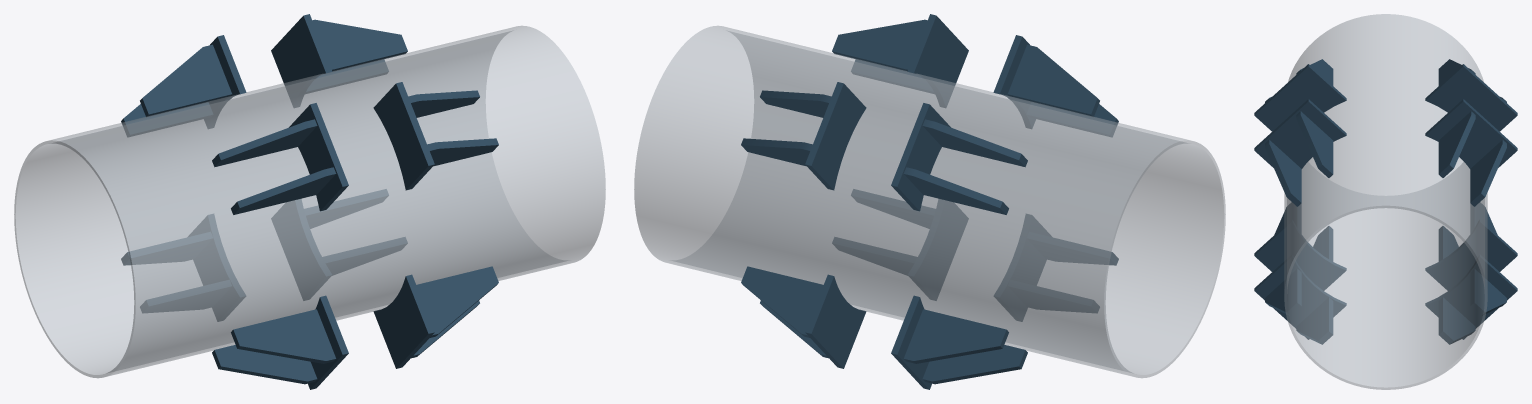
File: TS-661.00.00-07-opora-dn530-ris2.glb
3 renders of one model, left to right at view 1: azimuth 30°, elevation 25°; view 2: azimuth 150°, elevation 25°; view 3: azimuth 270°, elevation 25°, orthographic. The views are drawn at different scales.
Visible parts, largest first — view 1: truba, upor_11, upor_24, upor_1, upor_7, upor_19, upor_21, upor_13, upor_8, upor_4, upor_12, upor_16 (+12 smaller); view 2: truba, upor_18, upor_5, upor_19, upor_13, upor_1, upor_2, upor_7, upor_15, upor_22, upor_17, upor_10 (+12 smaller); view 3: truba, upor_4, upor_22, upor_10, upor_16, upor_1, upor_19, upor_7, upor_13, upor_2, upor_21, upor_3 (+11 smaller).
Boxes of the visible parts, x1,y1,x2,y2 form: truba: (14, 25, 605, 378); upor_11: (231, 309, 336, 363); upor_24: (140, 44, 231, 117); upor_1: (373, 82, 434, 190); upor_7: (373, 274, 434, 368); upor_19: (271, 14, 332, 107); upor_21: (312, 19, 407, 71); upor_13: (271, 199, 331, 300); upor_8: (416, 266, 498, 337); upor_4: (289, 103, 348, 211); upor_12: (212, 345, 317, 384); upor_16: (188, 214, 245, 321); truba: (634, 25, 1225, 378); upor_18: (903, 309, 1008, 363); upor_5: (1008, 44, 1099, 117); upor_19: (805, 82, 866, 190); upor_13: (805, 274, 866, 368); upor_1: (907, 14, 968, 107); upor_2: (832, 19, 927, 71); upor_7: (908, 199, 968, 300); upor_15: (741, 266, 823, 337); upor_22: (891, 103, 950, 211); upor_17: (922, 345, 1027, 384); upor_10: (994, 214, 1051, 321); truba: (1284, 14, 1487, 389); upor_4: (1254, 64, 1346, 131); upor_22: (1425, 64, 1517, 131); upor_10: (1254, 220, 1346, 290); upor_16: (1425, 220, 1517, 290); upor_1: (1254, 99, 1346, 168); upor_19: (1425, 99, 1517, 168); upor_7: (1254, 255, 1346, 339); upor_13: (1425, 255, 1517, 339); upor_2: (1296, 111, 1333, 177); upor_21: (1438, 111, 1475, 177); upor_3: (1265, 139, 1301, 206).
Size of the model in its own units: 1182 by 686 by 686.
